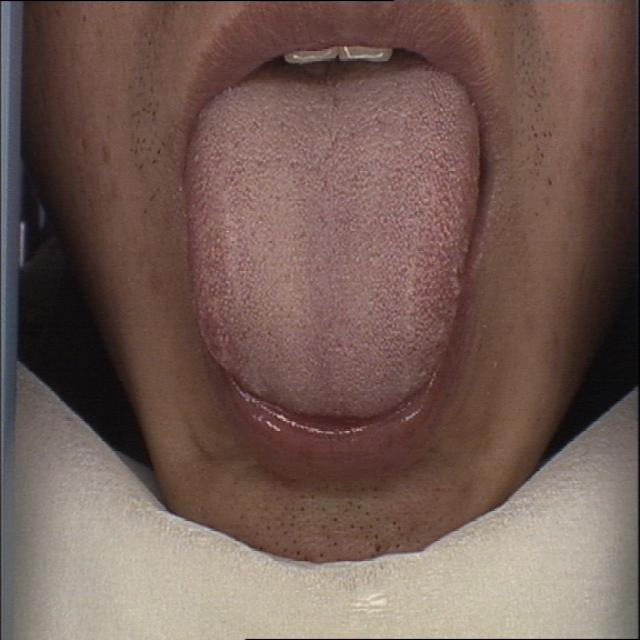tongue: (179, 67, 492, 426)
